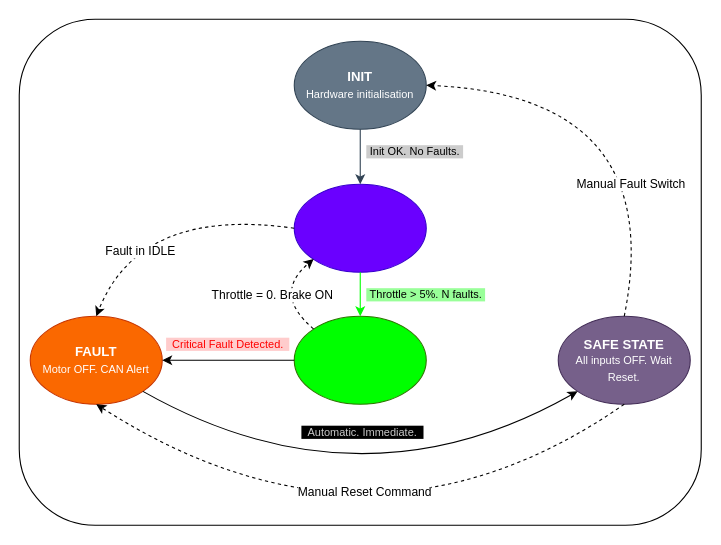
This 721x545 diagram has some shape labels left out. The shapes that lost their labels are listed below. From the top down, each one's box as (x1, y1, x2, y2) in pixels, then its label:
(293, 183, 426, 272): IDLE Sensor Active. Motor OFF
(293, 315, 426, 404): RUNNING Motor Active. All monitored.
